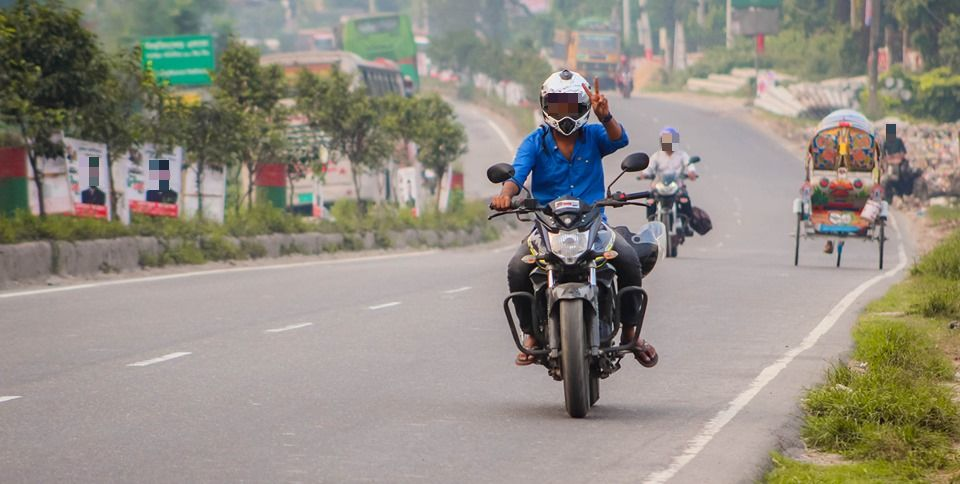bike: (482, 155, 651, 415), (635, 145, 701, 258), (615, 73, 637, 96)
bus: (271, 94, 423, 212), (253, 50, 412, 101), (336, 12, 421, 98)
rickshaw: (787, 104, 889, 274)
truck: (553, 22, 623, 90)
